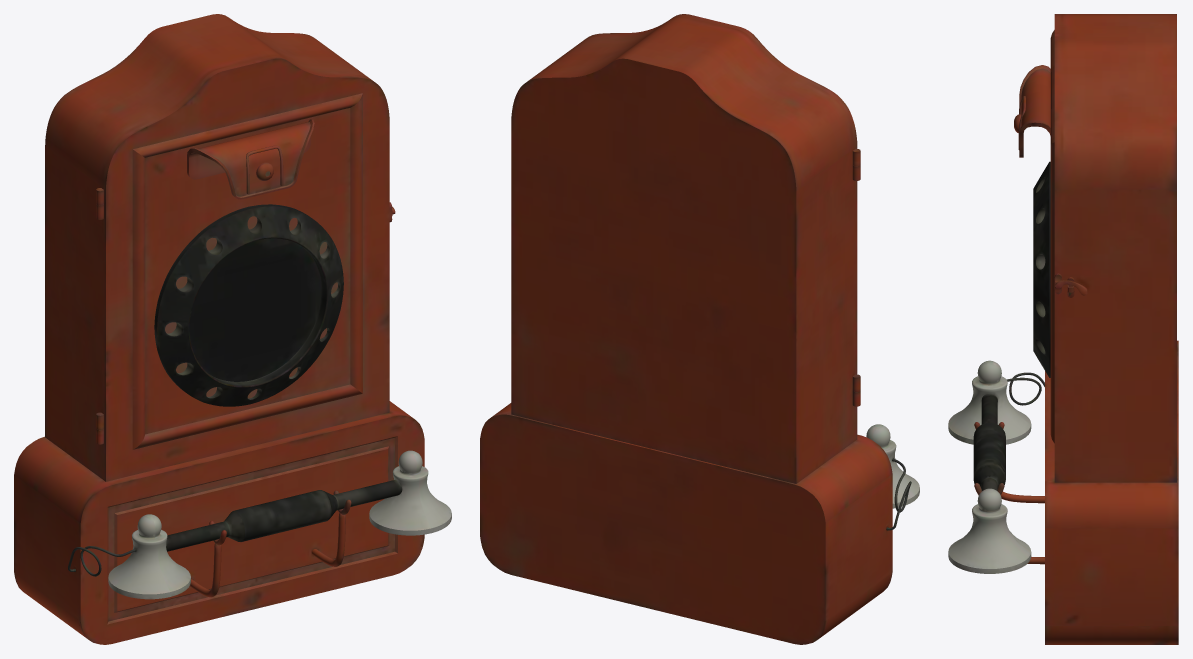
File: vintage_telephone_wall_clock.glb
The picture shows the model from 3 angles, left to right: view 1: azimuth 30°, elevation 25°; view 2: azimuth 150°, elevation 25°; view 3: azimuth 270°, elevation 25°; orthographic projection.
Visible parts, largest first — view 1: vintage_telephone_wall_clock; view 2: vintage_telephone_wall_clock; view 3: vintage_telephone_wall_clock.
Boxes of the visible parts, left/top/right/bottom form: vintage_telephone_wall_clock: left=14, top=14, right=451, bottom=644; vintage_telephone_wall_clock: left=480, top=14, right=919, bottom=644; vintage_telephone_wall_clock: left=948, top=14, right=1178, bottom=644.
Bounding box in the file's own units: 0.3428 × 0.5012 × 0.1926.
2 materials, 2 textured.
